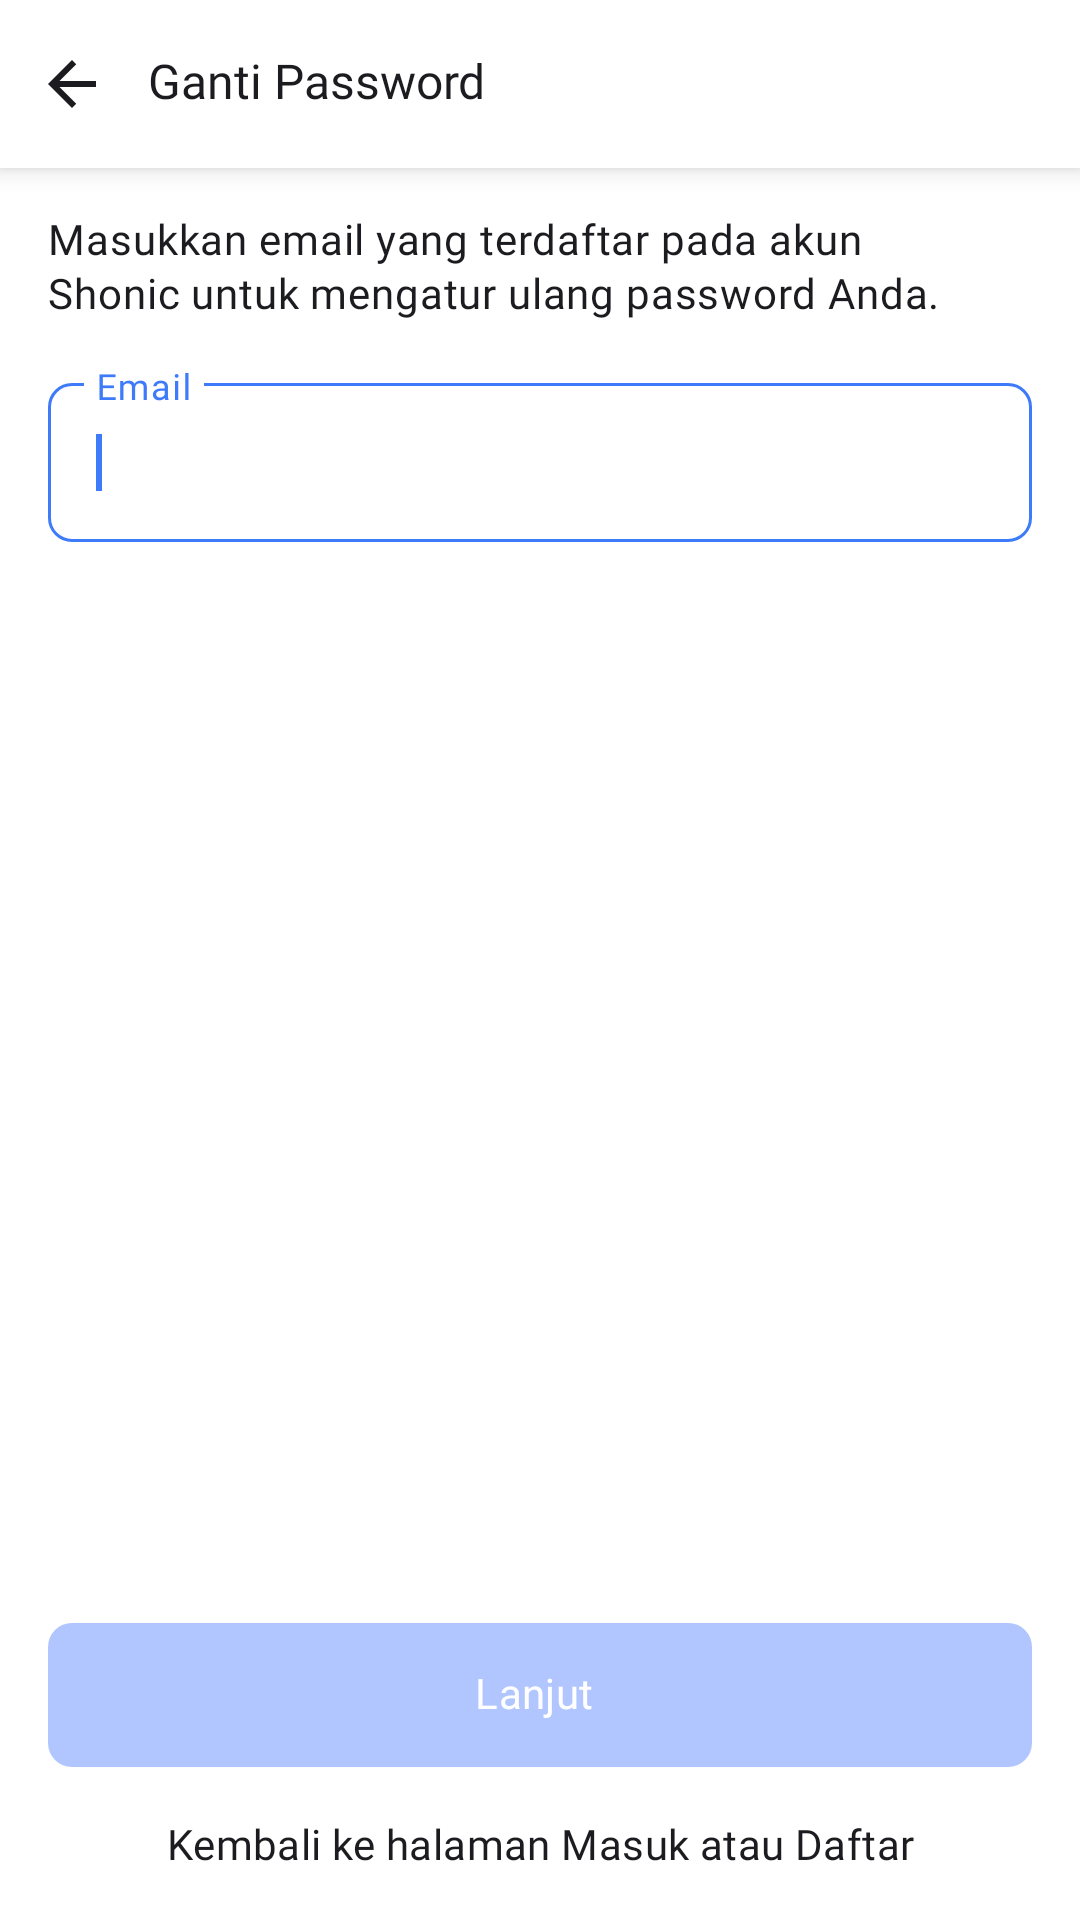

Screen size 1080*1920. Icon name, then its box in pixels as [x1,y1,x2,y2]:
all arrow back: [48,60,96,108]
